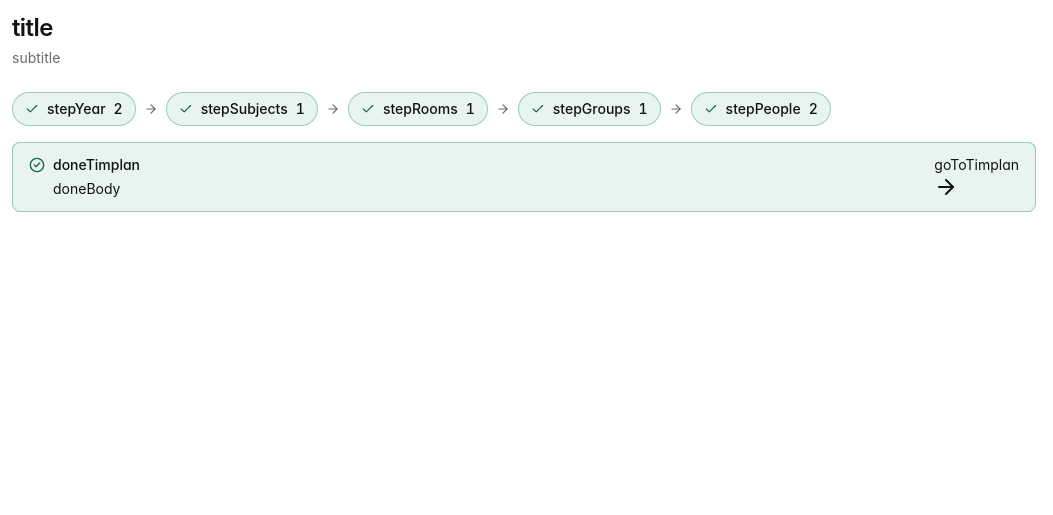
Test: SetupPage when every step is done › makes a step current again when the admin opens it, and still says Klart
Click the button "stepRooms 1": (418, 109) [348,92,488,126]
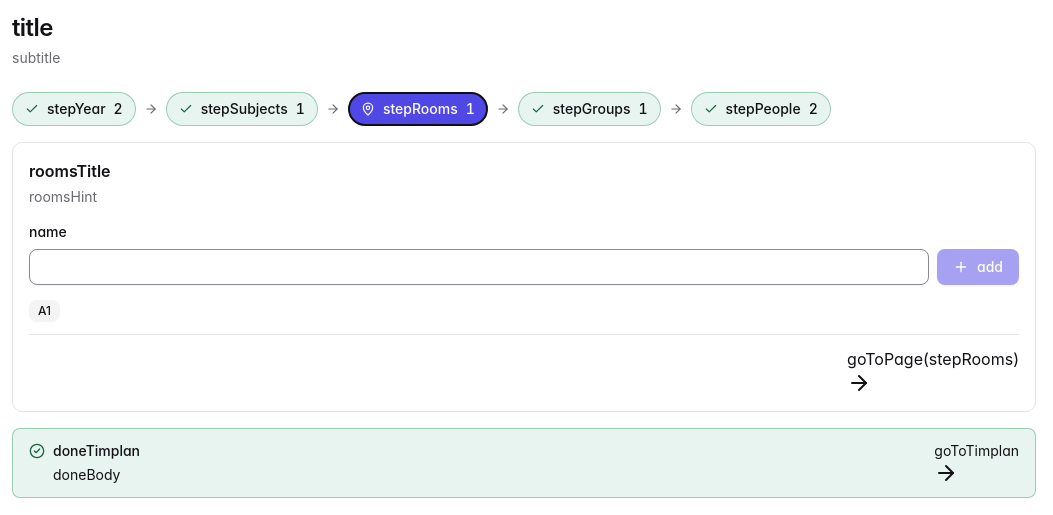
Expected: the message shows "doneTimplan", [53,442,140,459]
Now the element "roomsTitle" is shown, box [12,142,1036,412]
